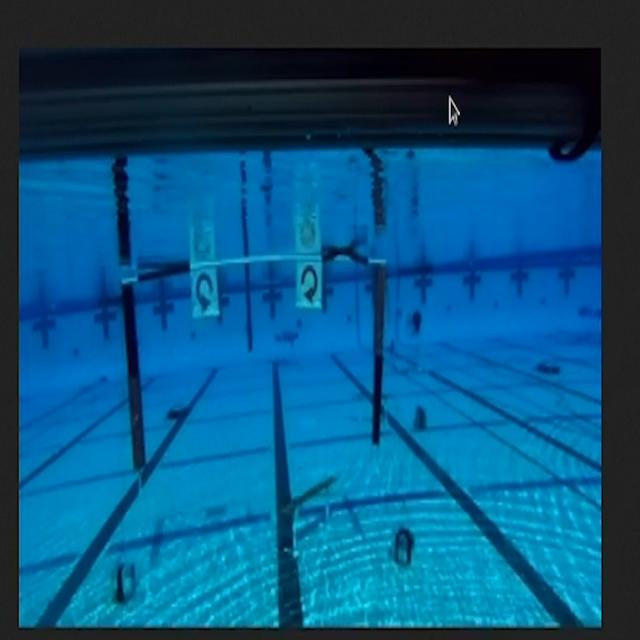Gate: (107, 242, 399, 482)
Path: (273, 464, 345, 556)
